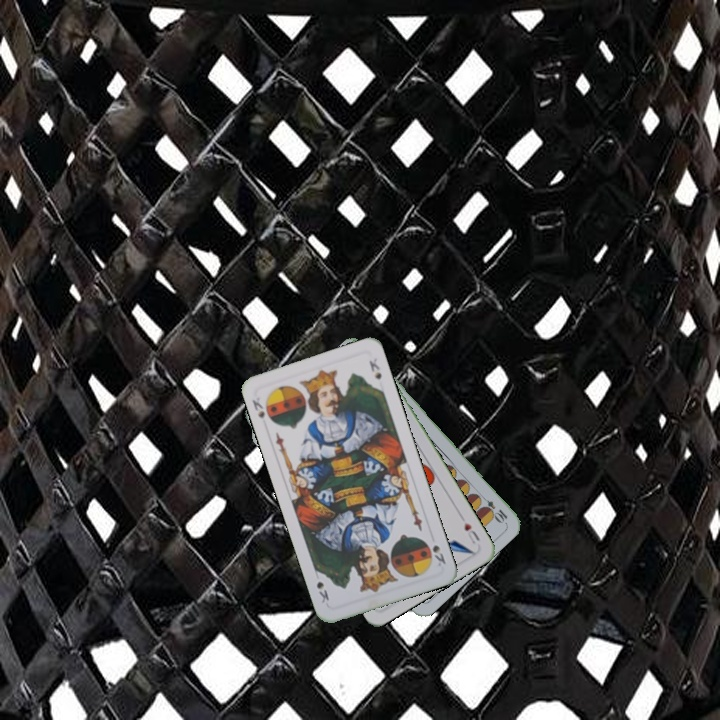E10: (476, 491, 510, 525)
HU: (456, 512, 482, 547)
SK: (428, 541, 448, 569), (248, 393, 267, 422)
